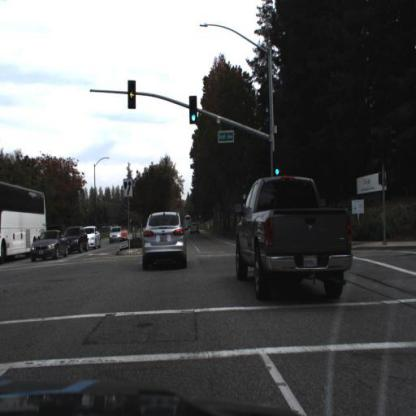car: (234, 172, 359, 312), (143, 211, 190, 270), (30, 227, 68, 263), (68, 228, 88, 254), (88, 226, 101, 249), (111, 227, 124, 243)
trafficLight: (128, 80, 138, 112)
trafficLight-Green: (189, 96, 199, 125), (274, 150, 284, 178)
truck: (1, 185, 48, 263)
